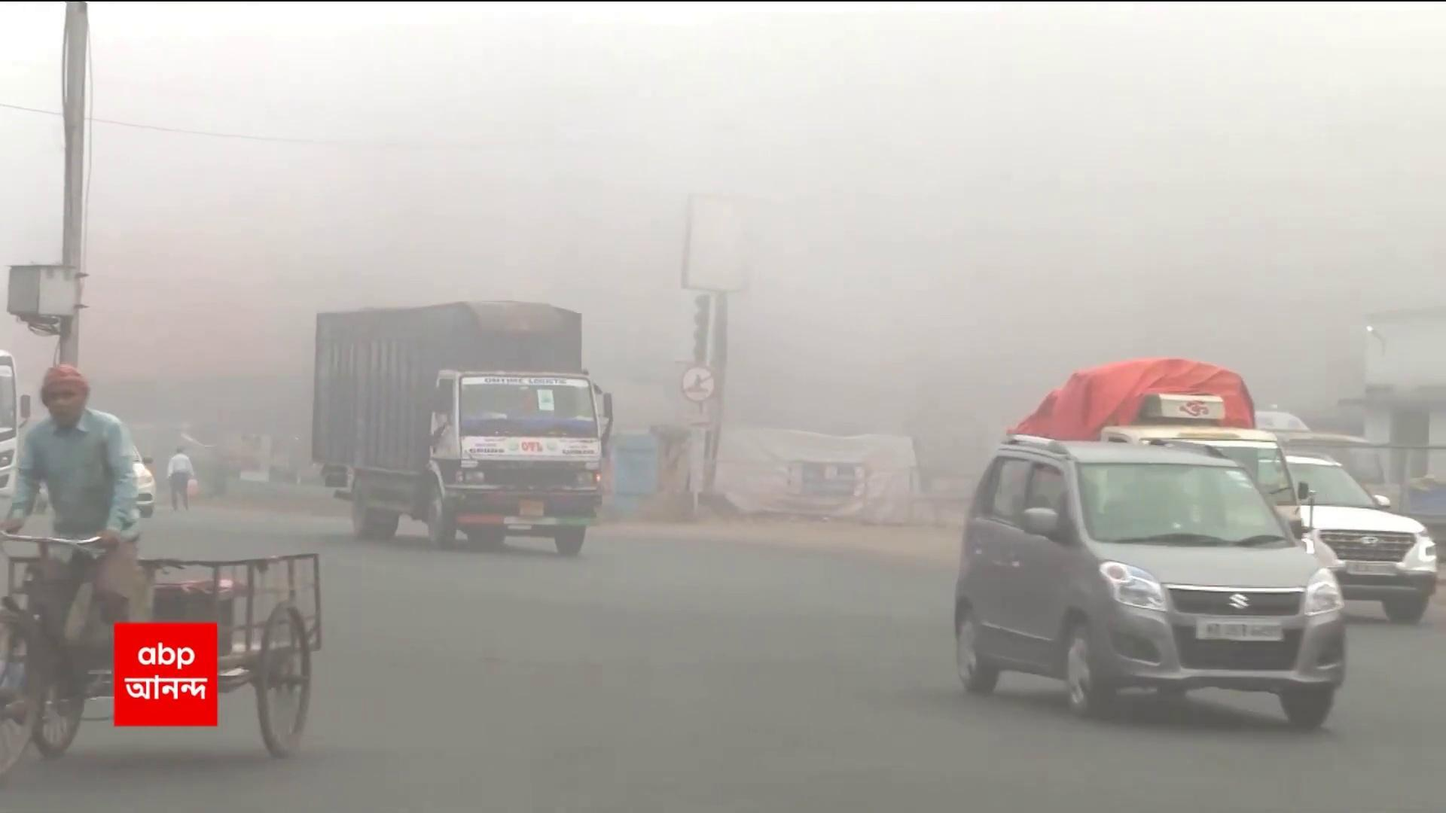Car: (951, 435, 1348, 731)
Truck: (309, 296, 616, 560)
